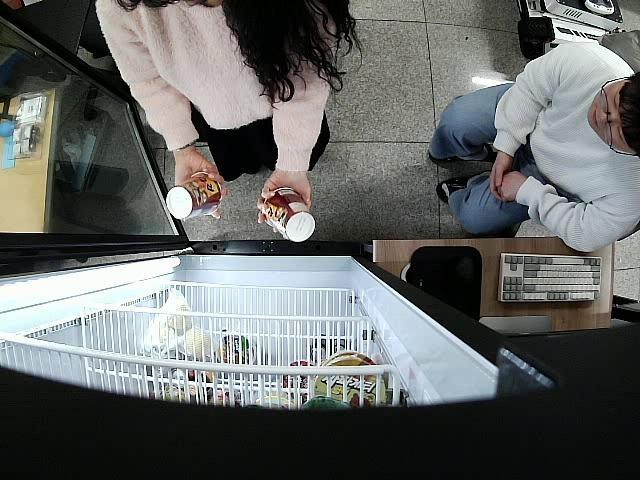06_nuguri_S: (261, 187, 315, 242), (166, 172, 222, 221)
